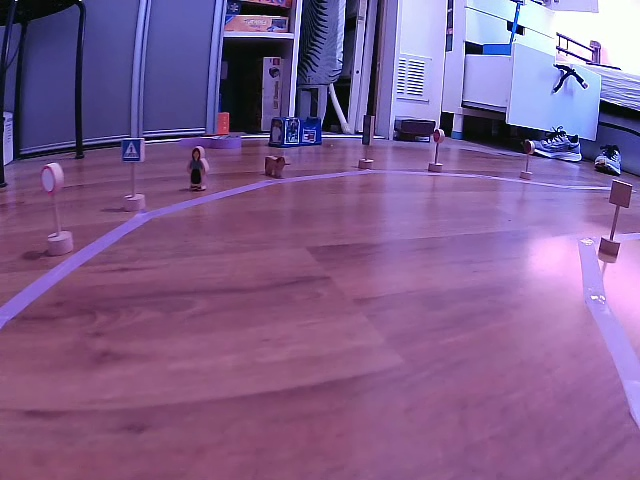mens: (185, 145, 210, 191)
paard: (262, 152, 289, 180)
wegdicht: (37, 162, 65, 195)
zebrapad: (121, 138, 145, 162)
